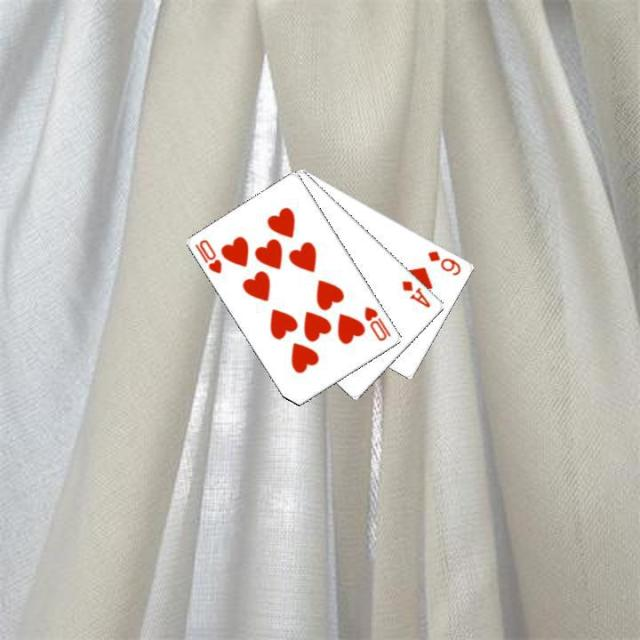10H: (191, 236, 224, 276), (361, 302, 393, 343)
6D: (424, 246, 463, 278)
AD: (398, 276, 433, 310)
